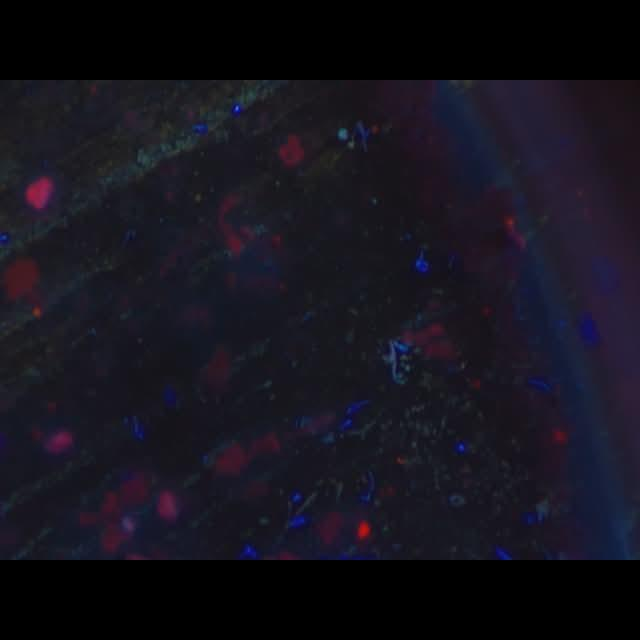Fragment: (25, 175, 53, 211)
